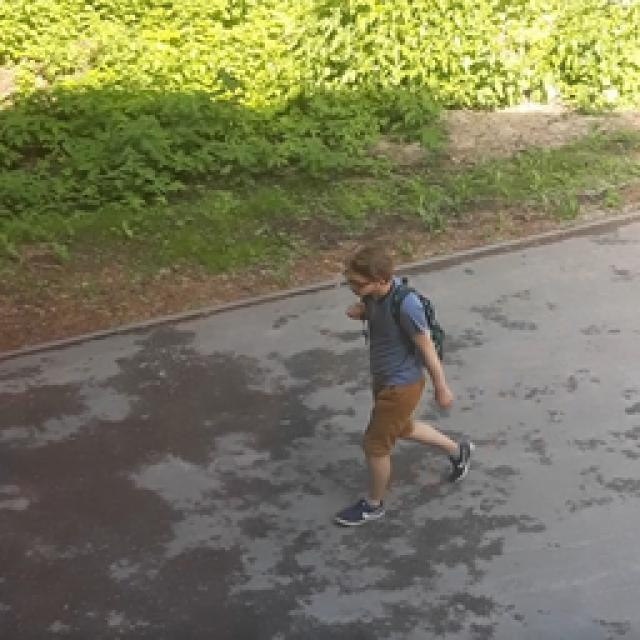person: (335, 242, 470, 522)
